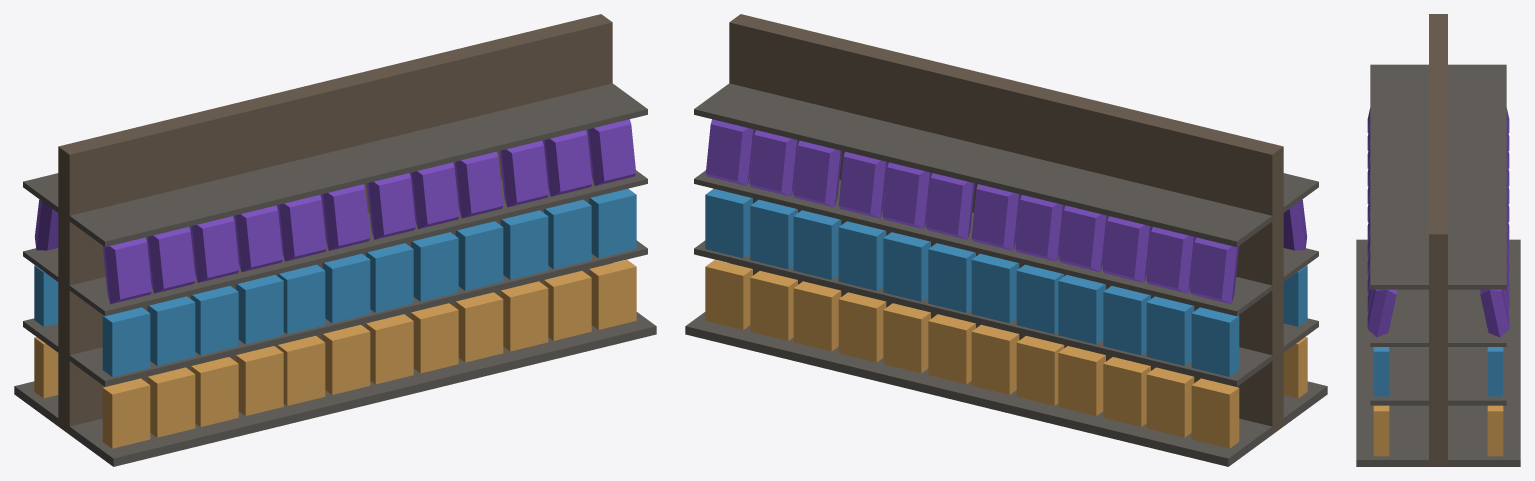
Rendered from Stellaj.fbx.
The picture shows the model from 3 angles, left to right: view 1: azimuth 30°, elevation 25°; view 2: azimuth 150°, elevation 25°; view 3: azimuth 270°, elevation 25°; orthographic projection. The views are drawn at different scales.
Parts seen in each view (by area): view 1: Stellaj; view 2: Stellaj; view 3: Stellaj.
Part boxes in pixels (<box>): Stellaj: <box>14,14,656,466</box>; Stellaj: <box>685,14,1327,466</box>; Stellaj: <box>1356,14,1520,466</box>.
Size of the model in its own units: 601 by 296 by 190.
